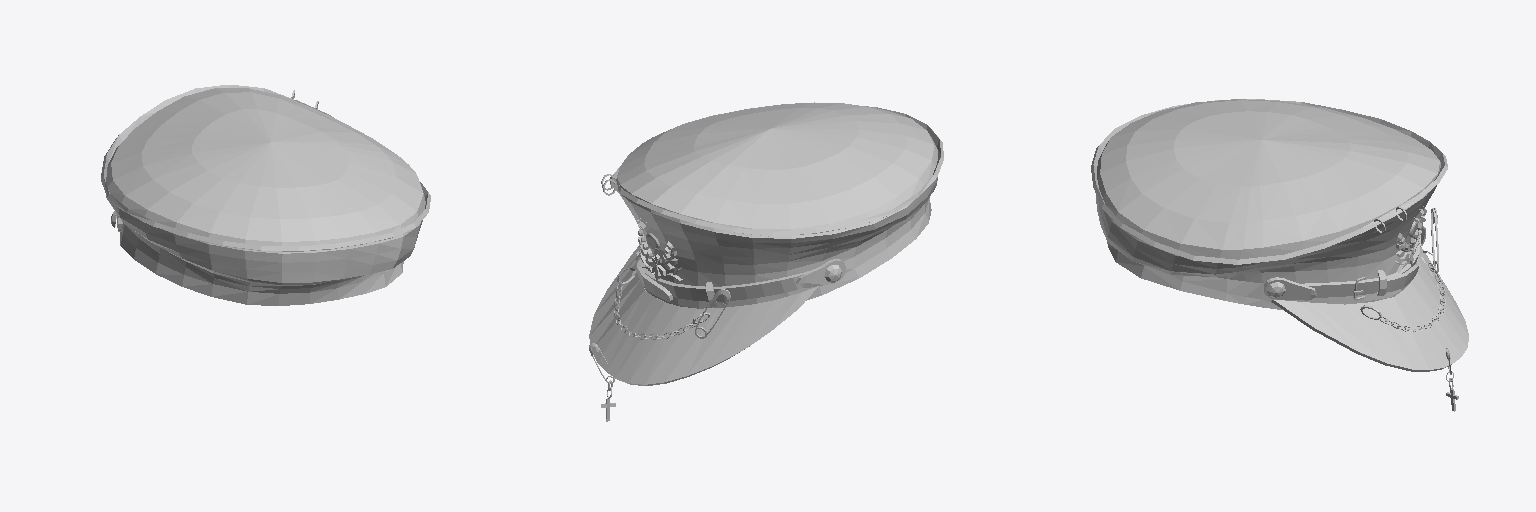
The model's file is Phoenix Fami Hat export.obj.
3 views of the same model, side by side, from view 1: azimuth 30°, elevation 25°; view 2: azimuth 150°, elevation 25°; view 3: azimuth 270°, elevation 25° (orthographic).
Parts seen in each view (by area): view 1: Phoenix_Fami_Hat; view 2: Phoenix_Fami_Hat; view 3: Phoenix_Fami_Hat.
Boxes of the visible parts, <box> form: Phoenix_Fami_Hat: <box>101,85,430,305</box>; Phoenix_Fami_Hat: <box>589,102,943,421</box>; Phoenix_Fami_Hat: <box>1091,99,1468,411</box>.
Size of the model in its own units: 1.66 by 1.35 by 1.94.